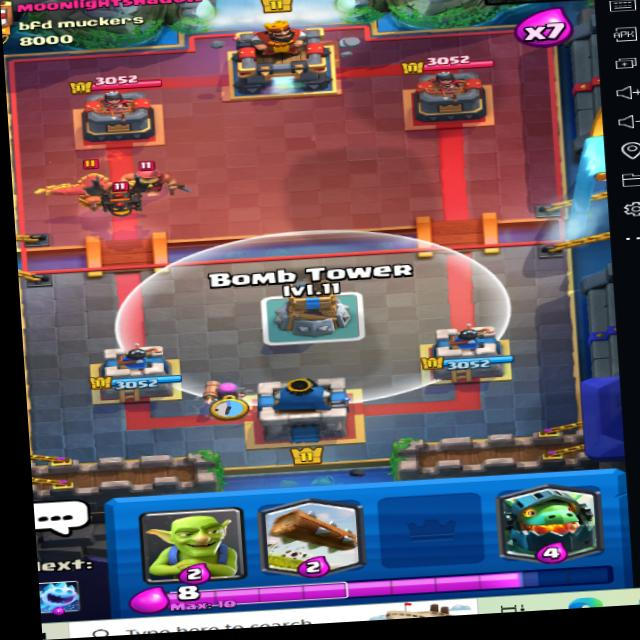Fisherman: (105, 148, 203, 201)
Lavahound: (75, 168, 165, 219)
Pheonix: (39, 154, 162, 214)
